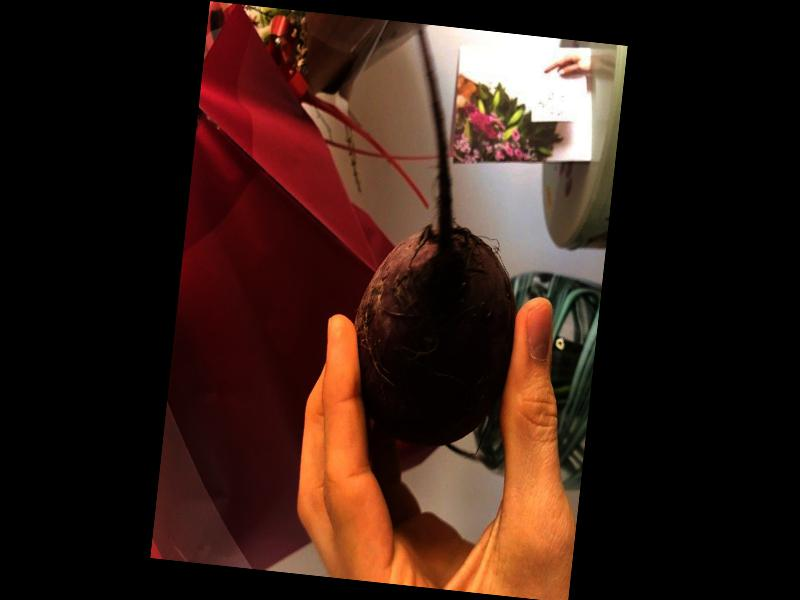Beet: (342, 19, 546, 459)
